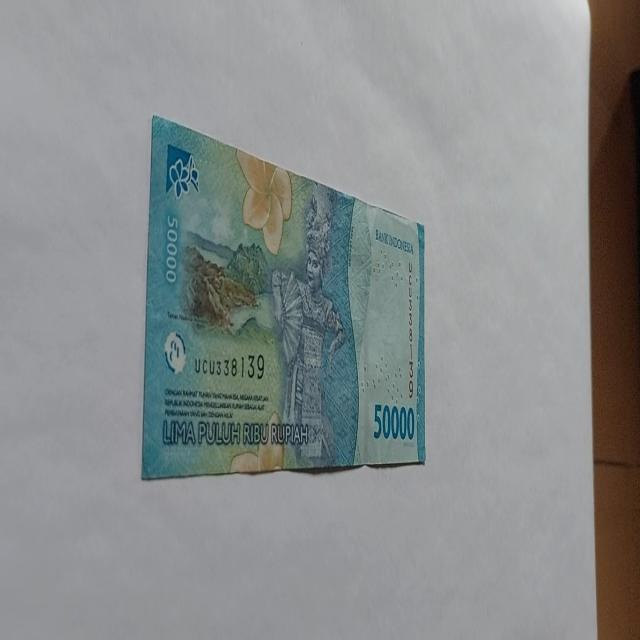lima puluh ribu rupiah: (140, 113, 427, 481)
